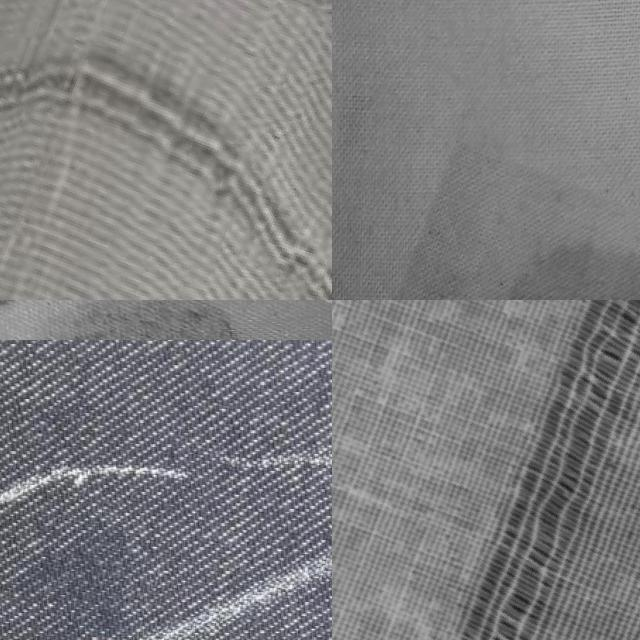Hole: (363, 172, 640, 300), (0, 300, 269, 340)
Thread_other: (332, 300, 640, 640)
